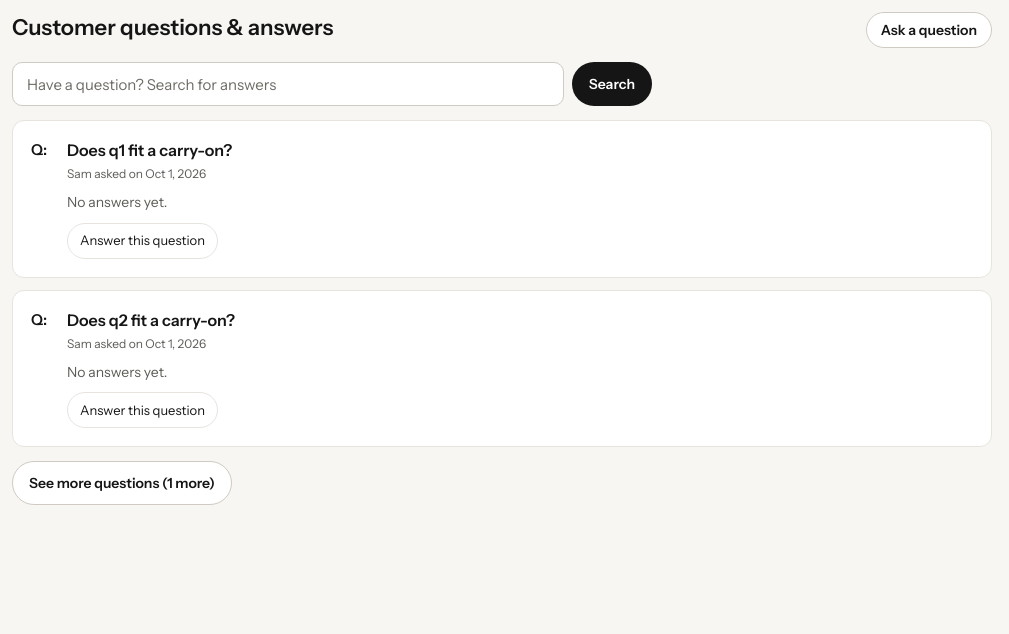
Test: loads more questions without repeating any
Click the button "See more questions (1 more)".
click(122, 483)  # box x1=12 y1=461 x2=232 y2=505
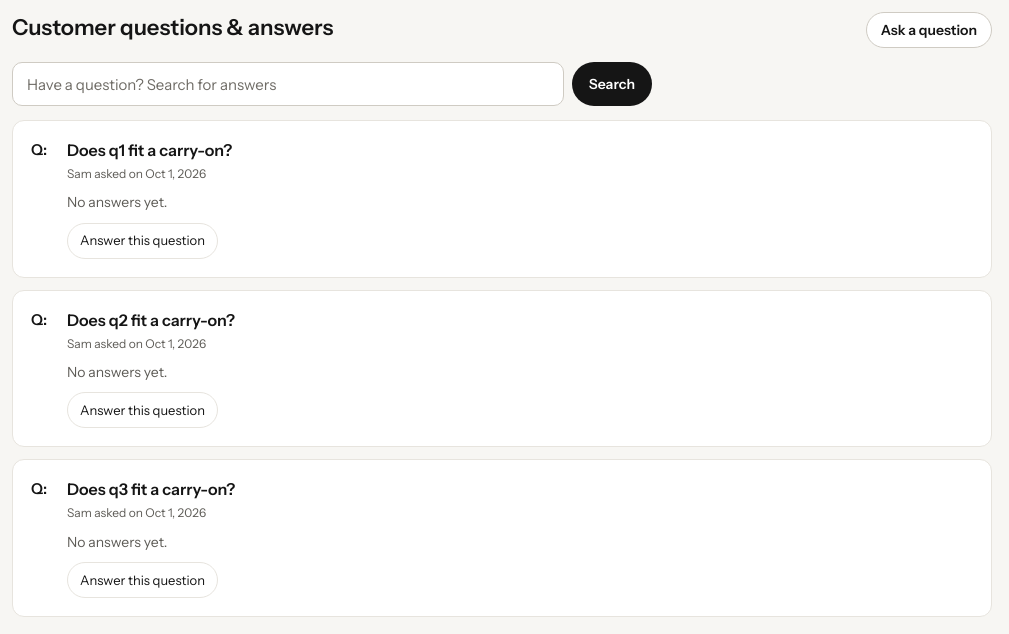
Check: the text "Does q1 fit a carry-on?" is shown 3 times, box x1=67 y1=140 x2=232 y2=160; x1=67 y1=310 x2=235 y2=330; x1=67 y1=479 x2=235 y2=499
Check: the button "See more questions" is gone
